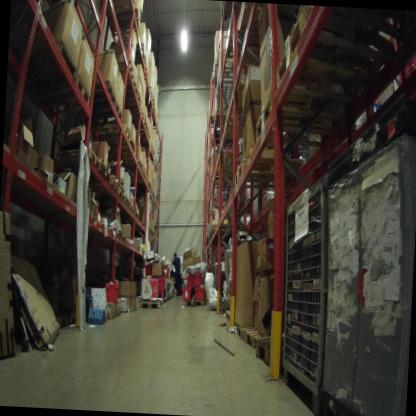pallet: (270, 7, 397, 100), (251, 90, 369, 172), (13, 68, 97, 120), (21, 31, 83, 86), (240, 140, 308, 183), (40, 135, 102, 176), (229, 162, 307, 191), (81, 95, 122, 131), (86, 72, 120, 109), (92, 119, 133, 146), (100, 9, 144, 33), (255, 333, 280, 372), (219, 109, 258, 134), (205, 212, 239, 238), (241, 321, 266, 356), (232, 315, 262, 343), (207, 174, 242, 197), (113, 57, 137, 81), (89, 0, 137, 12), (120, 76, 141, 100), (134, 298, 165, 312), (105, 173, 119, 198), (181, 297, 205, 310), (97, 164, 110, 185), (225, 307, 241, 324), (219, 303, 231, 318), (122, 192, 131, 211), (115, 190, 126, 205), (115, 179, 126, 191), (127, 200, 134, 217), (133, 207, 141, 220)
small_load_carrier: (99, 276, 122, 304), (184, 267, 205, 289), (145, 274, 166, 293), (178, 283, 192, 302), (140, 262, 153, 282), (193, 284, 206, 303), (161, 265, 175, 279)
stillage: (272, 167, 337, 416), (211, 262, 232, 304)
